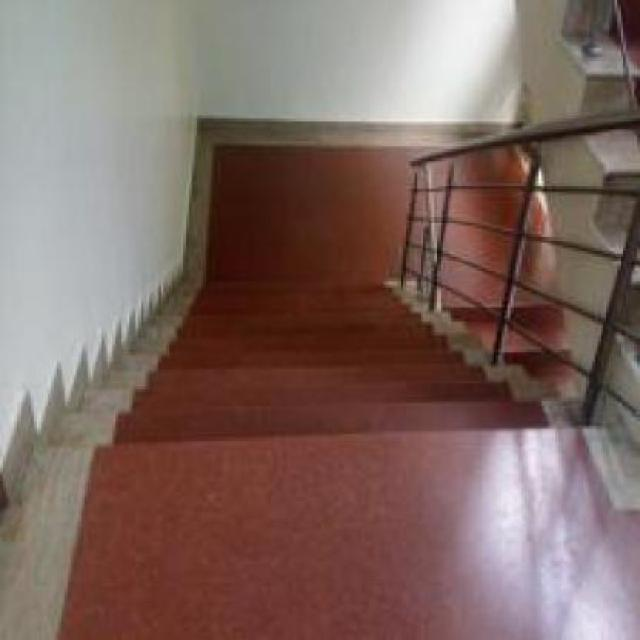stair: (60, 328, 582, 505)
